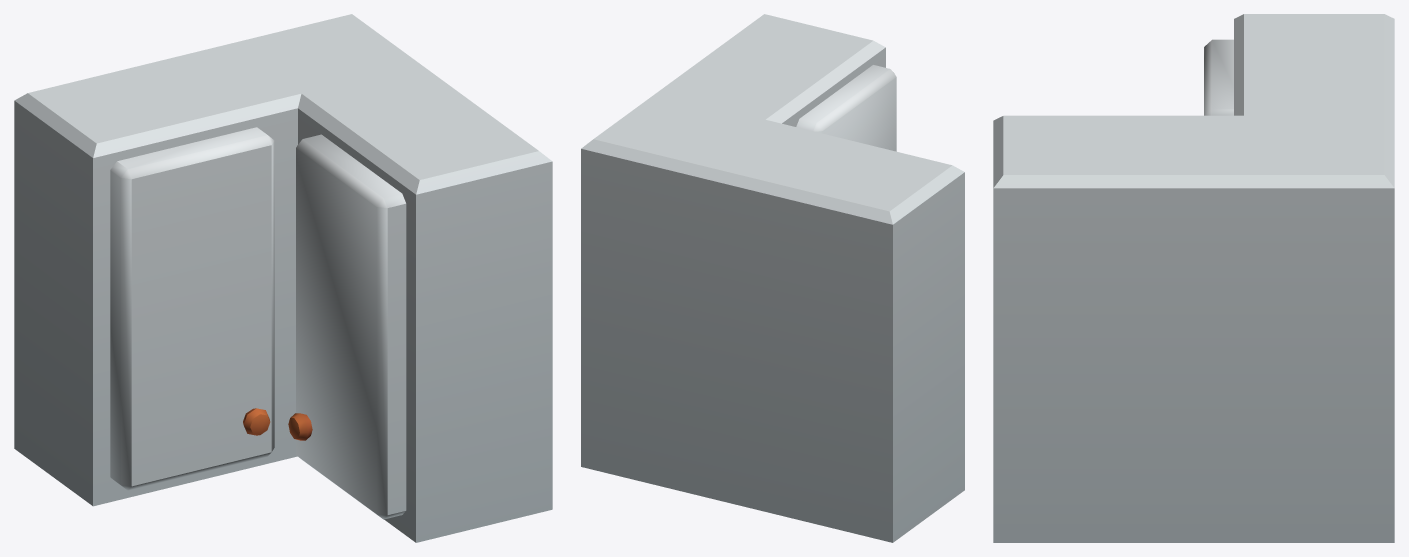
The model's file is kitchencabinet_corner.obj.
3 views of the same model, side by side, from view 1: azimuth 30°, elevation 25°; view 2: azimuth 150°, elevation 25°; view 3: azimuth 270°, elevation 25° (orthographic). The views are drawn at different scales.
Visible parts, largest first — view 1: kitchencabinet_corner_Cube.223; view 2: kitchencabinet_corner_Cube.223; view 3: kitchencabinet_corner_Cube.223.
Part boxes in pixels (x1,y1,x2,y2): kitchencabinet_corner_Cube.223: [14, 14, 552, 542]; kitchencabinet_corner_Cube.223: [581, 14, 964, 542]; kitchencabinet_corner_Cube.223: [993, 14, 1394, 542].
Size of the model in its own units: 2 by 2 by 2.
1 material, 1 textured.
